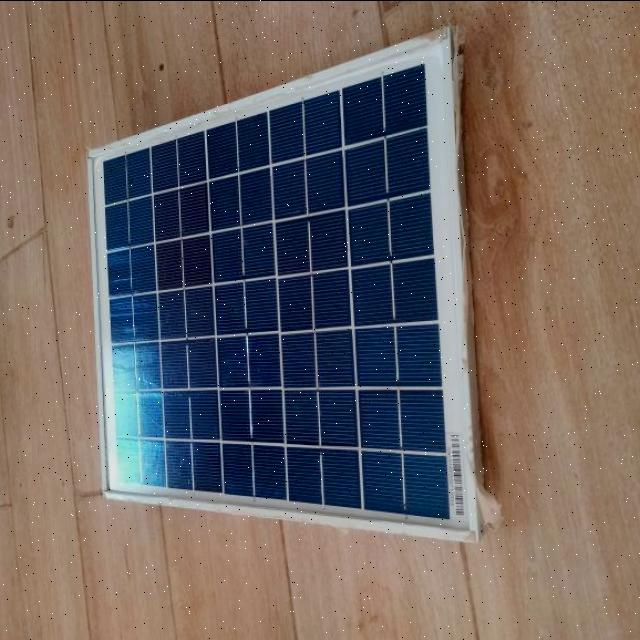Normal Solar Panel: (90, 31, 478, 534)
